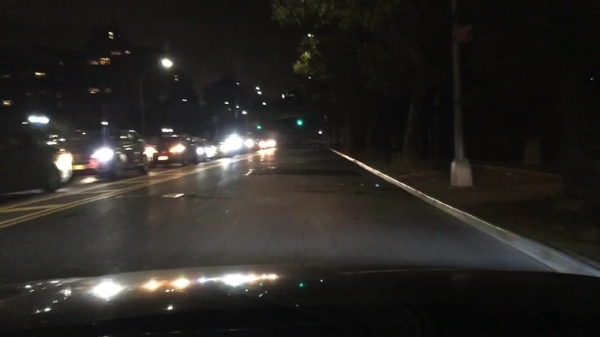car: (0, 120, 76, 195), (70, 129, 156, 179), (153, 135, 199, 168), (192, 136, 219, 159), (209, 138, 237, 158), (238, 135, 257, 151), (256, 137, 278, 149)
traffic light: (296, 117, 303, 127), (256, 121, 262, 132)
traffic sign: (453, 22, 476, 45)
